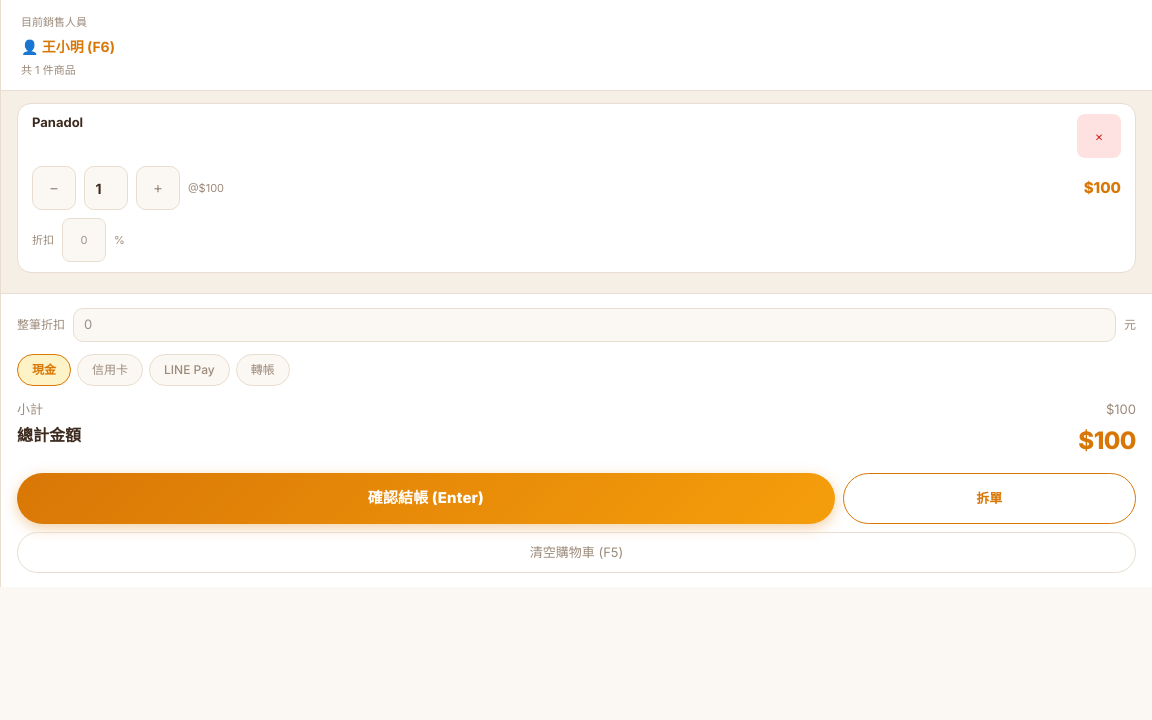
Test: CartPanel order discount input › updates total when user types order discount
The image size is (1152, 720).
Type "30" into the number field with placeholder "0" at (594, 325), box [73,308,1116,342]
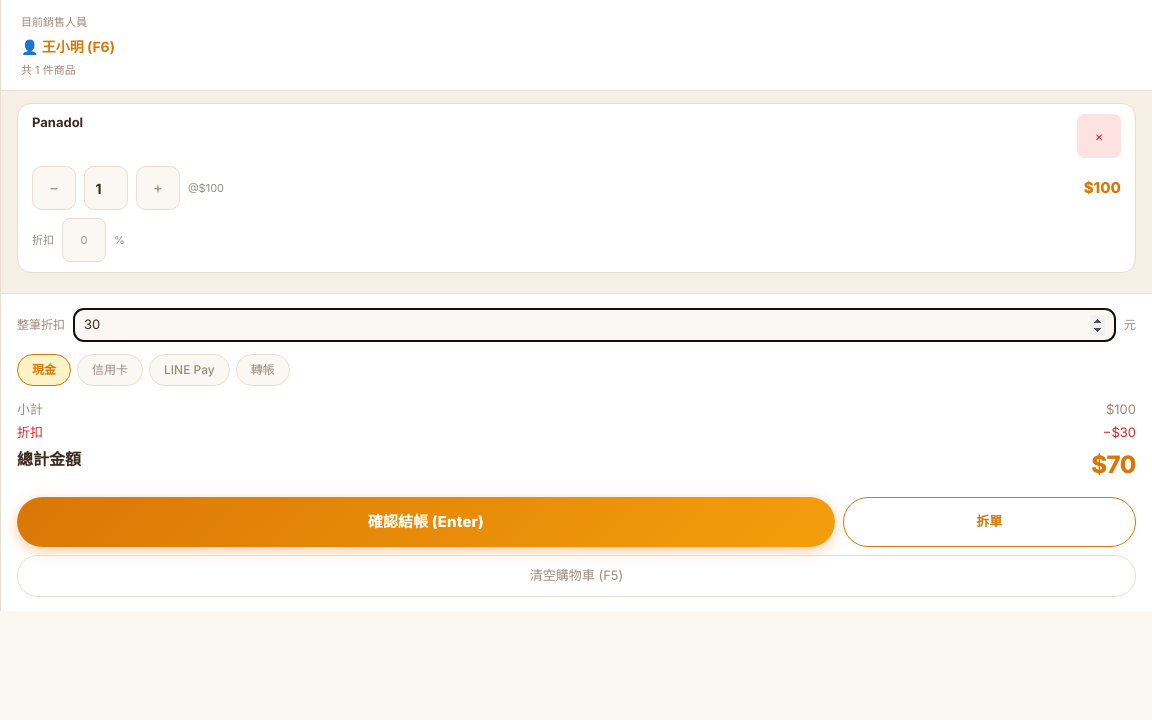
Expected: the text "$70" is shown, [1091,446,1136,482]
